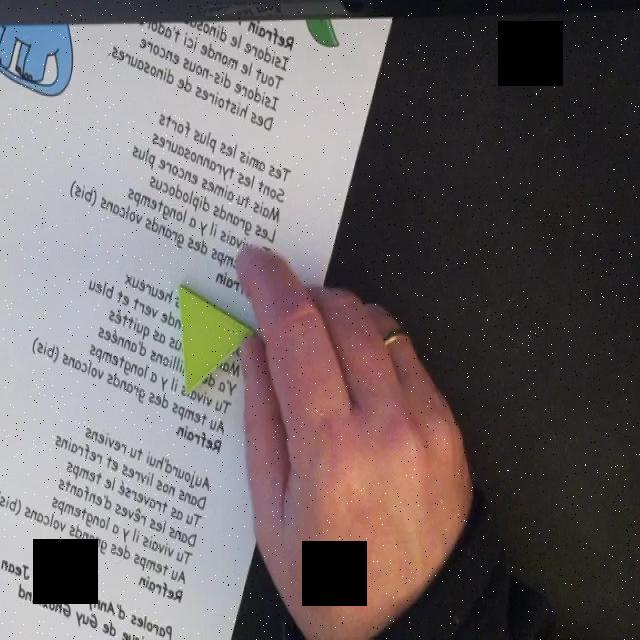triangle: (179, 284, 254, 395)
